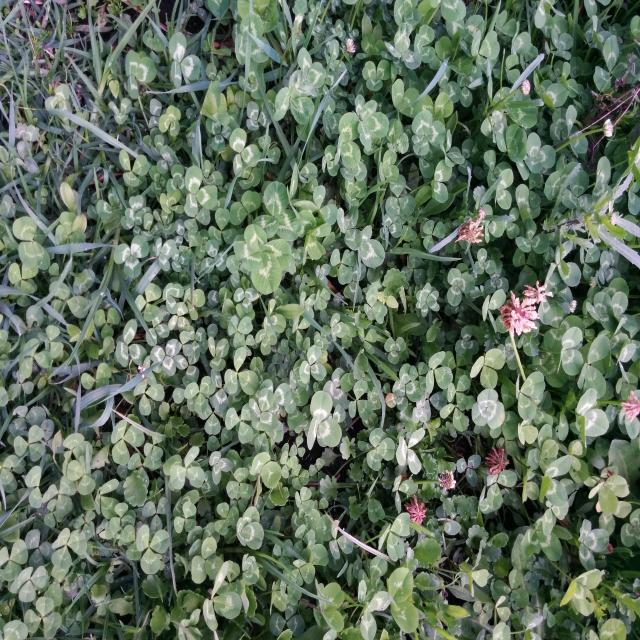Four Leaf Clover: (235, 224, 291, 295)
